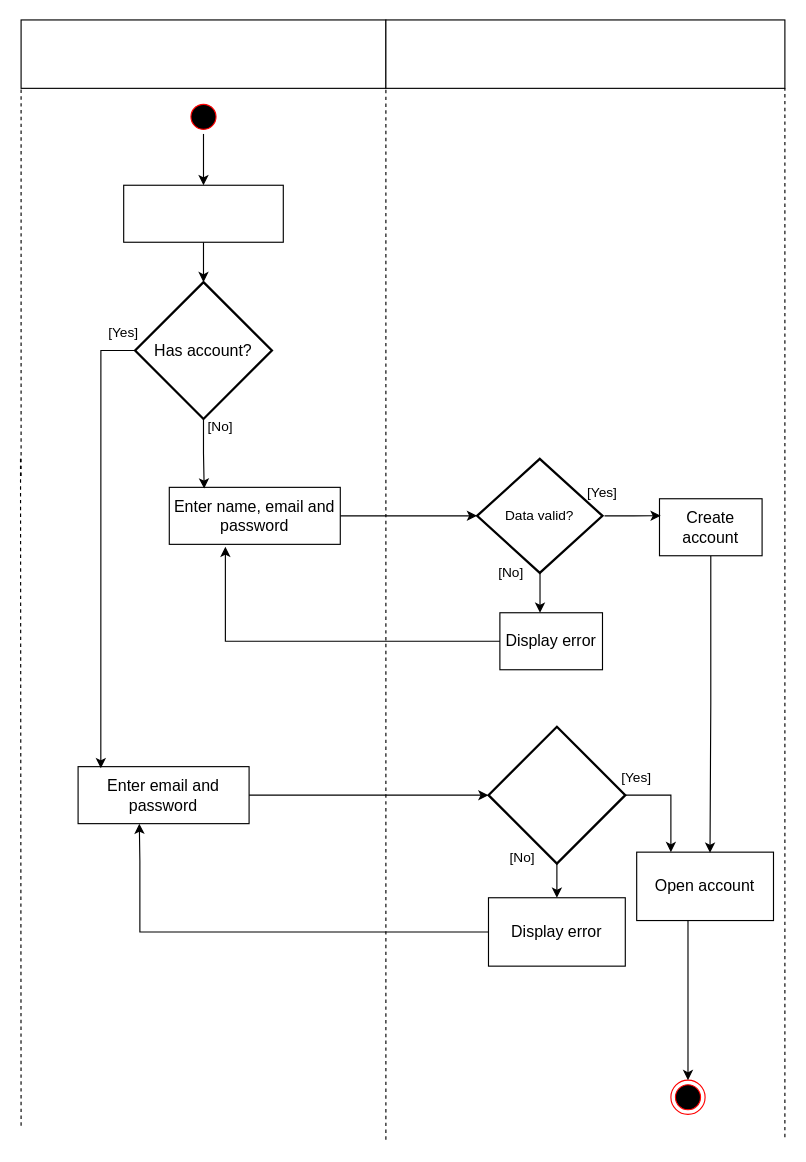
The diagram is 806 pixels wide and 1162 high, and some of its shapes have lost their labels. Here are the shapes that lost their labels. From the top down, the box of each, then its label:
(20, 19, 386, 88): User
(385, 19, 785, 88): System
(123, 184, 283, 242): Open app
(487, 725, 626, 864): Credentials good?
